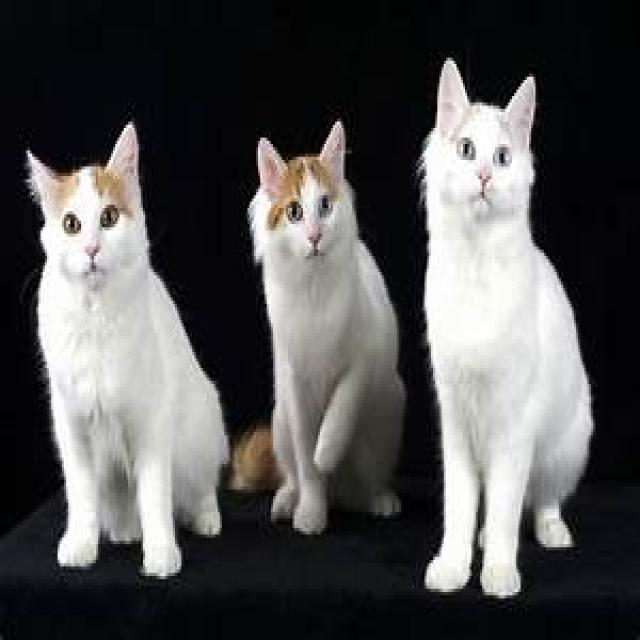cat: (416, 54, 593, 598), (23, 118, 230, 580), (233, 116, 408, 534)
